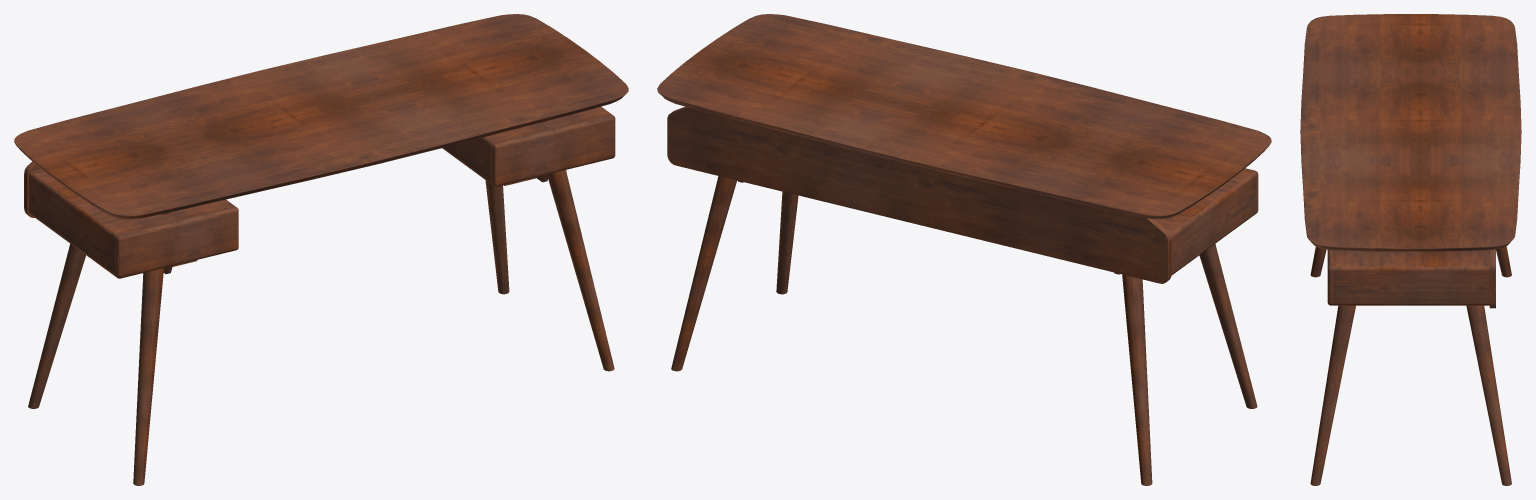
3 renders of one model, left to right at view 1: azimuth 30°, elevation 25°; view 2: azimuth 150°, elevation 25°; view 3: azimuth 270°, elevation 25°, orthographic. The views are drawn at different scales.
Parts seen in each view (by area): view 1: Desktop, Foot, Drawer_R_1, Drawer_L_1, Drawer_R_2, Drawer_R_4, Drawer_L_4, Drawer_L_3; view 2: Desktop, Back, Foot, Drawer_R_2, Drawer_R_4; view 3: Desktop, Foot, Drawer_L_2, Drawer_L_4, Drawer_L_5, Back, Drawer_L_1.
Boxes of the visible parts, <box> form: Desktop: <box>14,14,628,219</box>; Foot: <box>28,170,614,485</box>; Drawer_R_1: <box>115,206,238,278</box>; Drawer_L_1: <box>492,114,615,186</box>; Drawer_R_2: <box>29,176,115,274</box>; Drawer_R_4: <box>29,169,235,238</box>; Drawer_L_4: <box>480,106,611,146</box>; Drawer_L_3: <box>444,138,491,182</box>; Desktop: <box>657,14,1271,218</box>; Back: <box>667,106,1171,283</box>; Foot: <box>671,176,1257,485</box>; Drawer_R_2: <box>1171,176,1256,273</box>; Drawer_R_4: <box>1154,169,1255,237</box>; Desktop: <box>1300,14,1521,251</box>; Foot: <box>1310,246,1511,485</box>; Drawer_L_2: <box>1333,270,1489,303</box>; Drawer_L_4: <box>1333,250,1489,270</box>; Drawer_L_5: <box>1333,303,1489,305</box>; Back: <box>1489,249,1495,308</box>; Drawer_L_1: <box>1327,249,1333,305</box>.
Size of the model in its own units: 150 by 73.98 by 59.65.
Materials: 4 (2 with a texture image).
